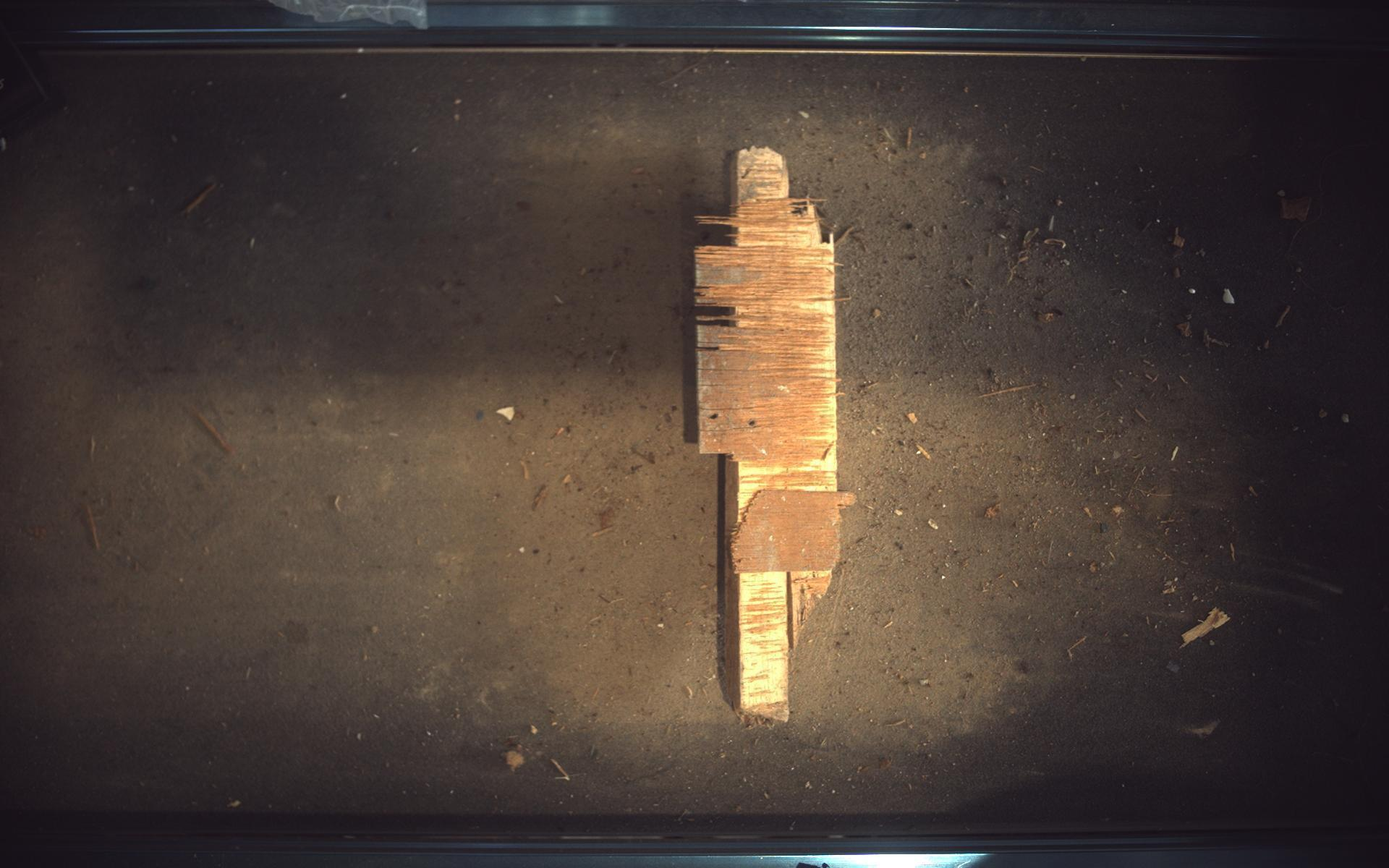wood: (696, 147, 854, 723)
